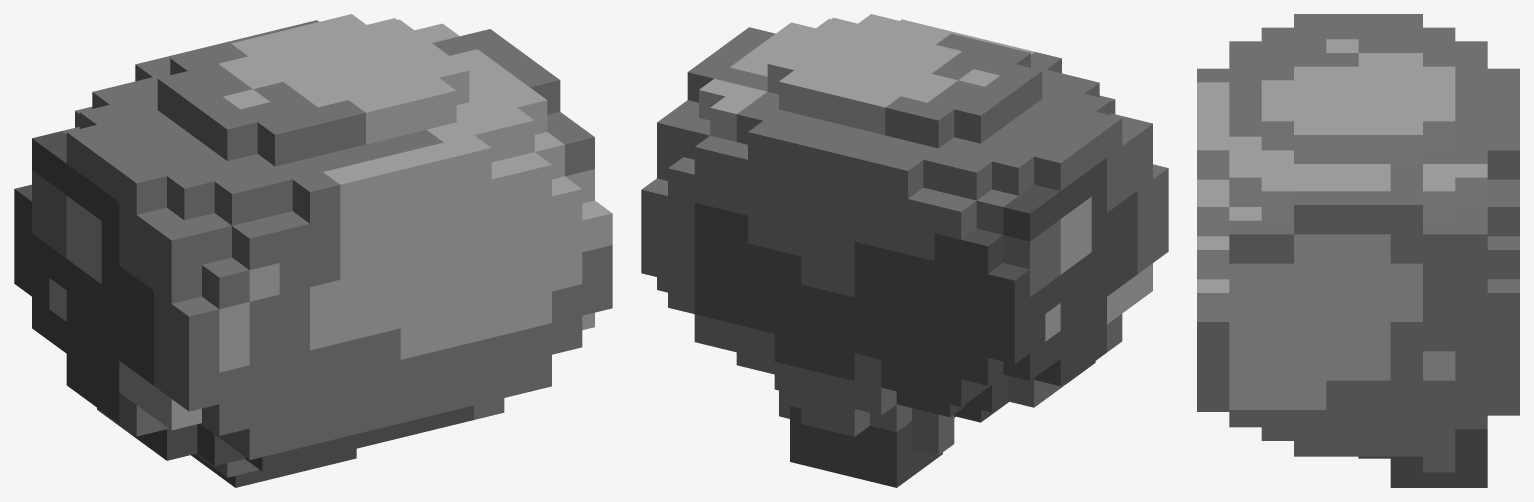
File: Golem body 1.obj
3 views of the same model, side by side, from view 1: azimuth 30°, elevation 25°; view 2: azimuth 150°, elevation 25°; view 3: azimuth 270°, elevation 25° (orthographic). The views are drawn at different scales.
Size of the model in its own units: 14 by 13 by 10.
Materials: 1 (1 with a texture image).
